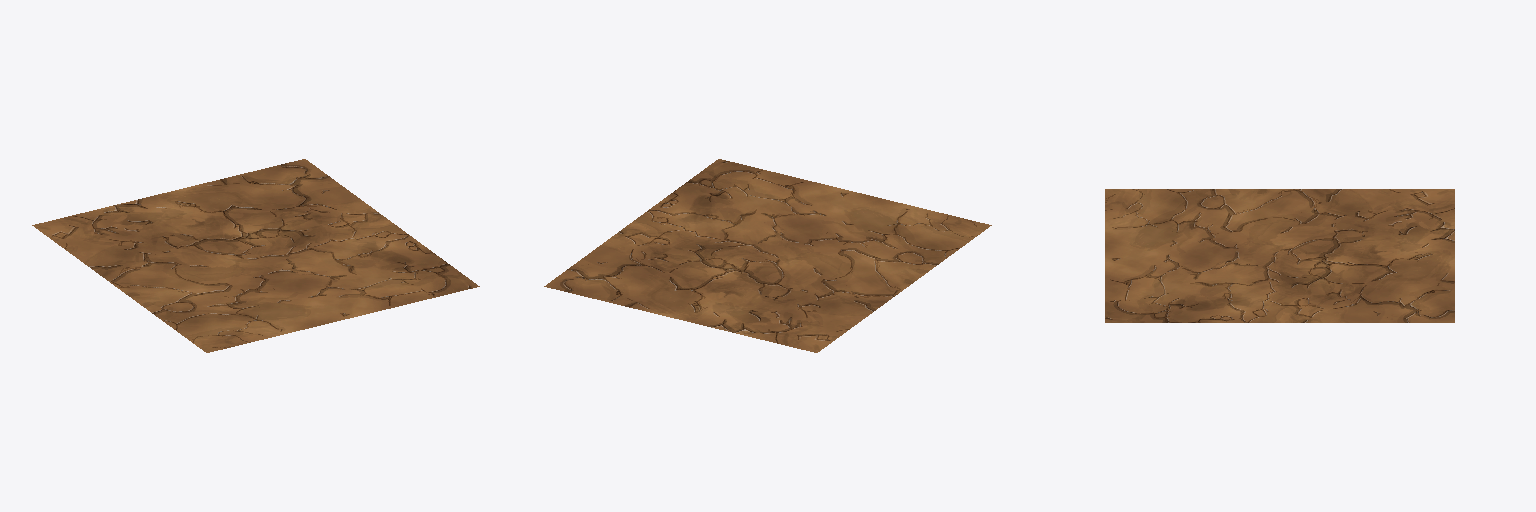
3 renders of one model, left to right at view 1: azimuth 30°, elevation 25°; view 2: azimuth 150°, elevation 25°; view 3: azimuth 270°, elevation 25°, orthographic.
Parts seen in each view (by area): view 1: pPlane1; view 2: pPlane1; view 3: pPlane1.
Part boxes in pixels (bbox=[...]): pPlane1: bbox=[32, 159, 479, 352]; pPlane1: bbox=[544, 159, 991, 352]; pPlane1: bbox=[1105, 189, 1454, 322].
Bounding box in the file's own units: 28.17 × 0 × 31.22.
1 materials, 1 textured.